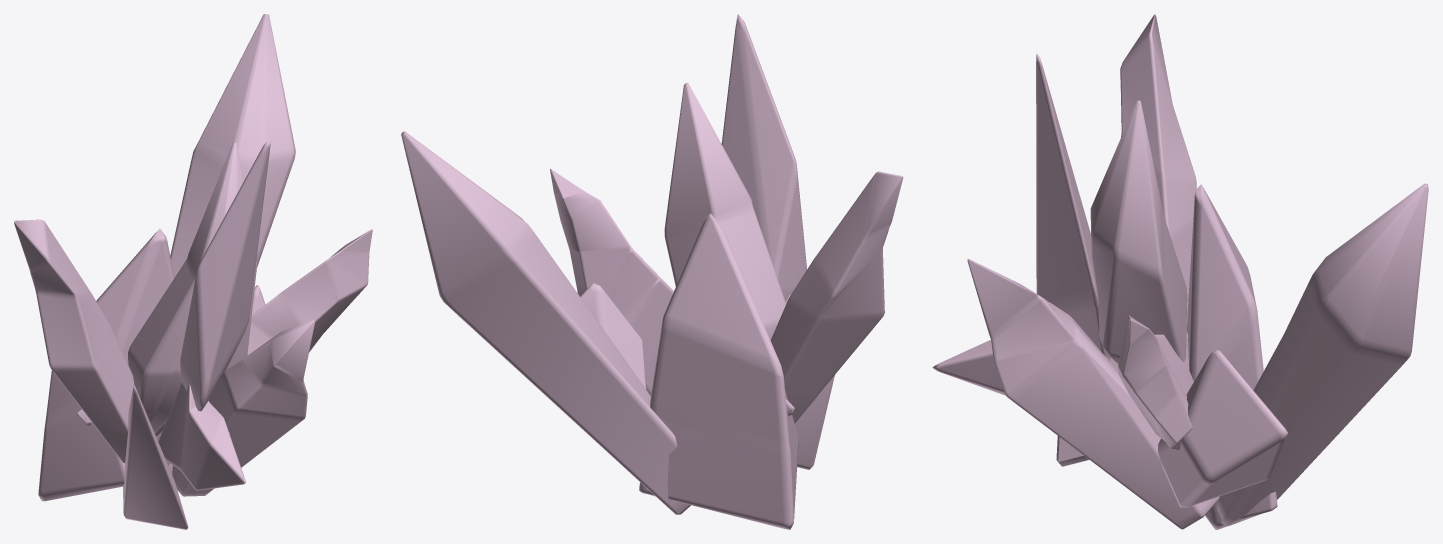
File: shuijing_4.fbx
3 renders of one model, left to right at view 1: azimuth 30°, elevation 25°; view 2: azimuth 150°, elevation 25°; view 3: azimuth 270°, elevation 25°, orthographic. The views are drawn at different scales.
Visible parts, largest first — view 1: shuijing:Object137; view 2: shuijing:Object137; view 3: shuijing:Object137.
Part boxes in pixels (x1,y1,x2,y2): shuijing:Object137: (14,14,372,529); shuijing:Object137: (401,14,903,529); shuijing:Object137: (932,14,1428,529).
Bounding box in the file's own units: 201 × 214 × 196.
